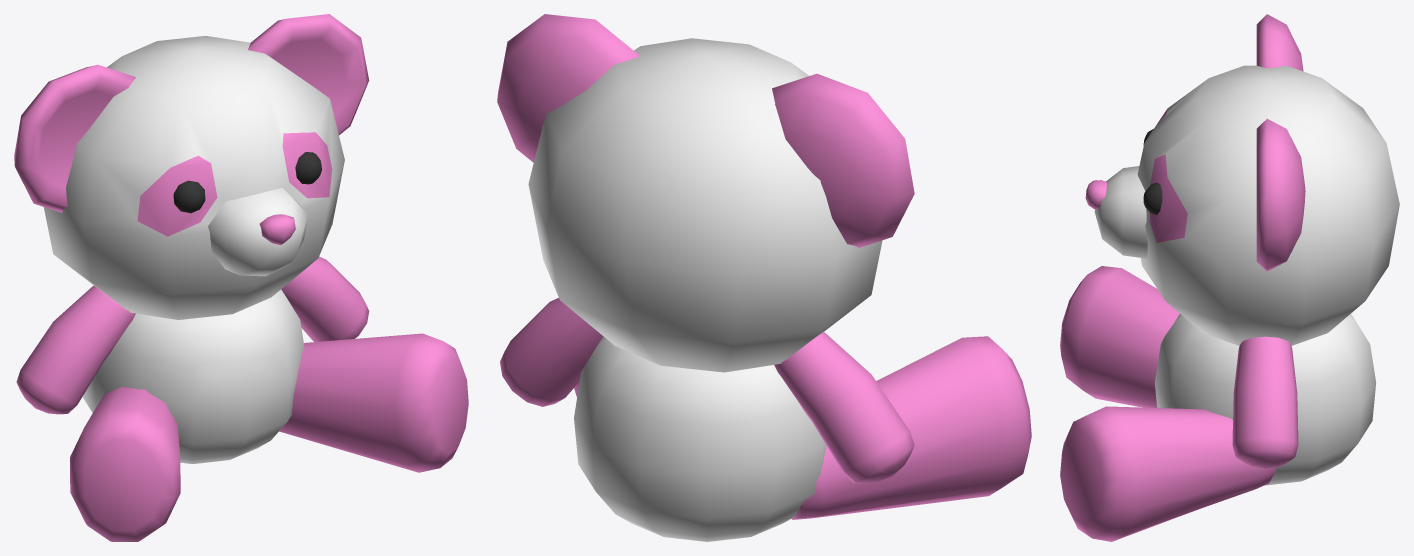
3 renders of one model, left to right at view 1: azimuth 30°, elevation 25°; view 2: azimuth 150°, elevation 25°; view 3: azimuth 270°, elevation 25°, orthographic. The views are drawn at different scales.
Visible parts, largest first — view 1: 22; view 2: 22; view 3: 22.
Part boxes in pixels (bbox=[...]): 22: bbox=[14, 14, 468, 541]; 22: bbox=[497, 14, 1031, 541]; 22: bbox=[1060, 14, 1399, 541].
Size of the model in its own units: 299 by 293 by 230.
